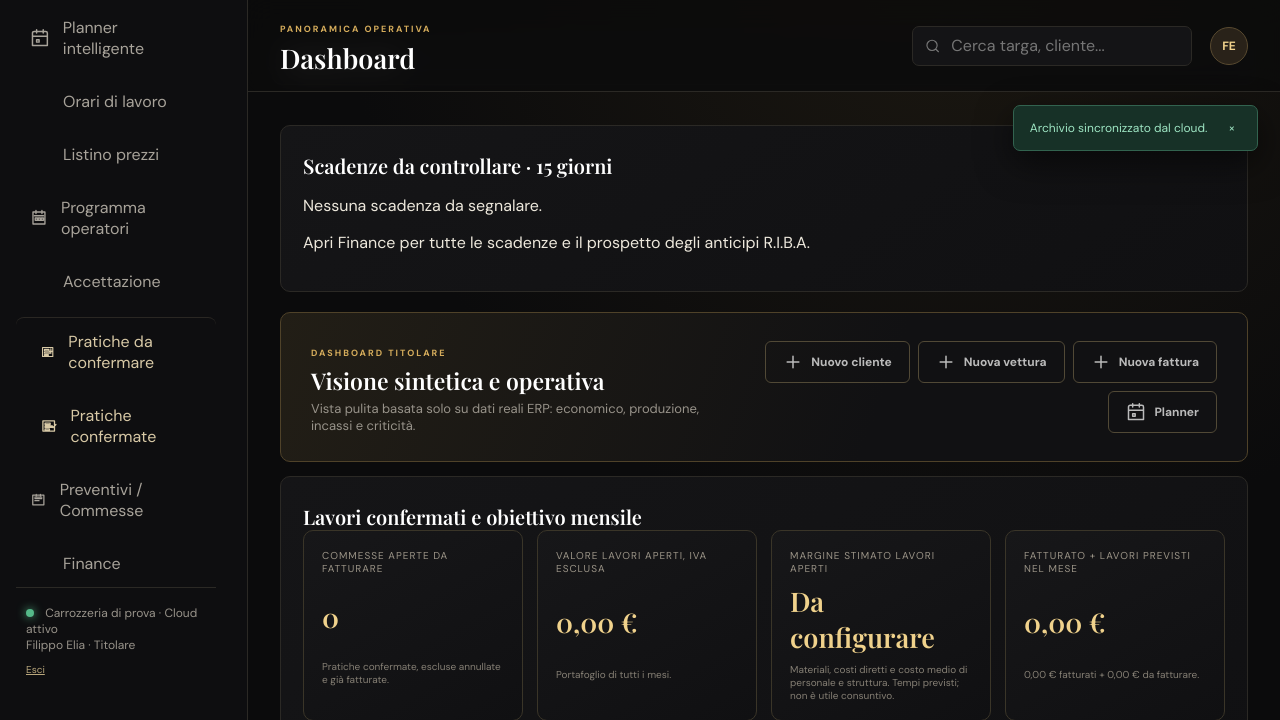
Test: shows fast estimates in the confirmed and pending queues without fabricating intake sheets
The width and height of the screenshot is (1280, 720).
(page scrolled)
Expected: the text "Archivio sincronizzato dal cloud." is shown, [1030, 120, 1207, 136]
Click the button "Pratiche confermate".
click(116, 426)  # box [16, 392, 216, 460]
(page scrolled)
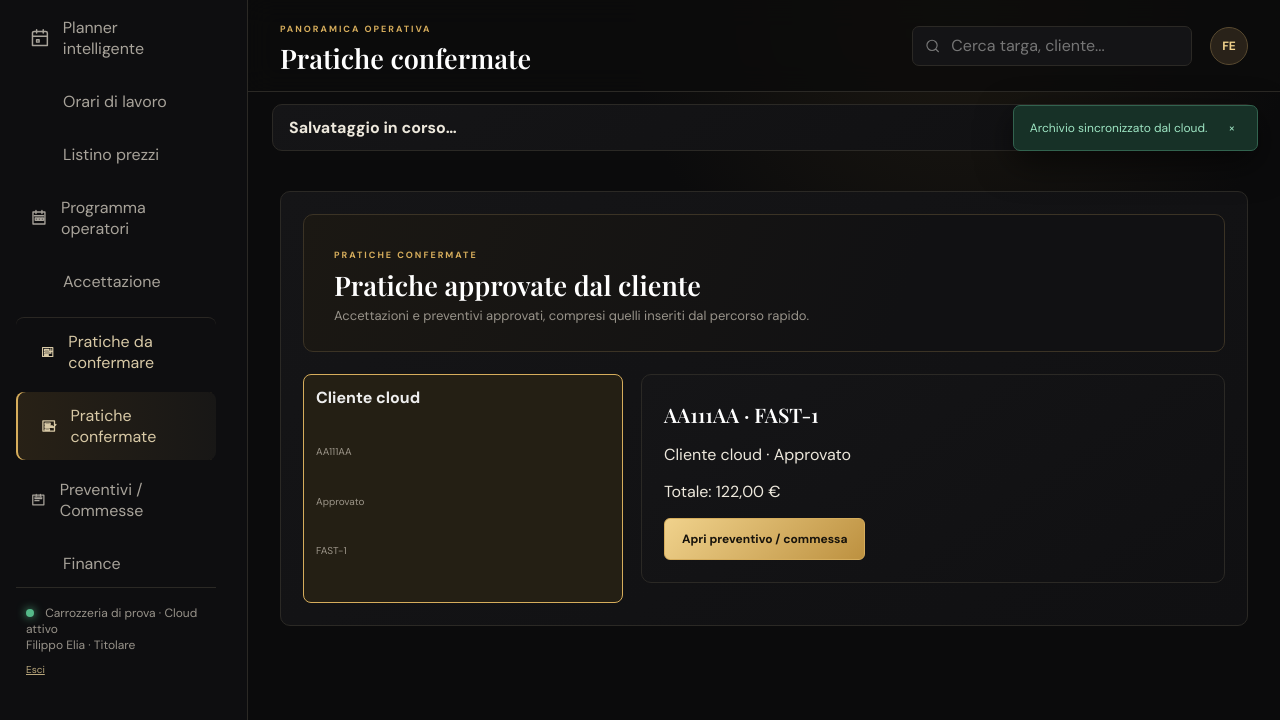
Result: the heading "AA111AA · FAST-1" is shown at [664, 401, 819, 428]
Click the button "Apri preventivo / commessa".
click(765, 539)  # box [664, 518, 866, 560]
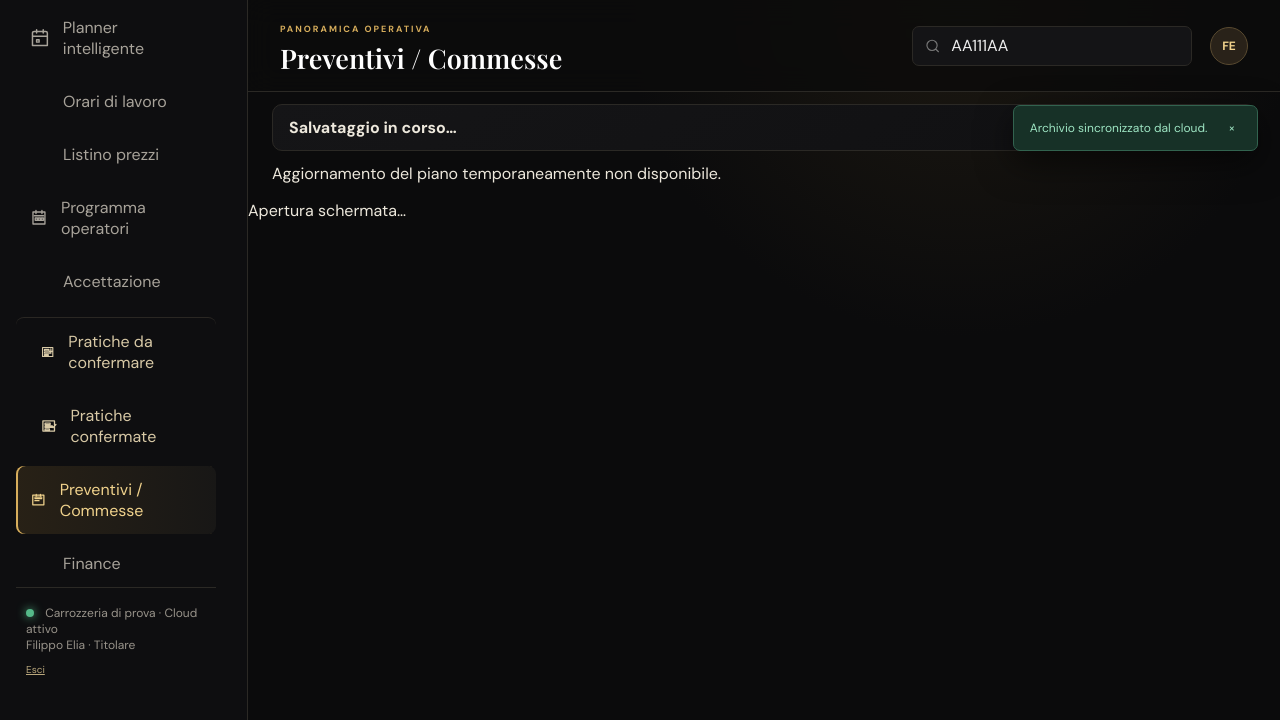
Result: the heading shows "Preventivi" at [280, 40, 562, 76]
Click the button "Pratiche da confermare".
click(116, 352)  # box [16, 317, 216, 386]
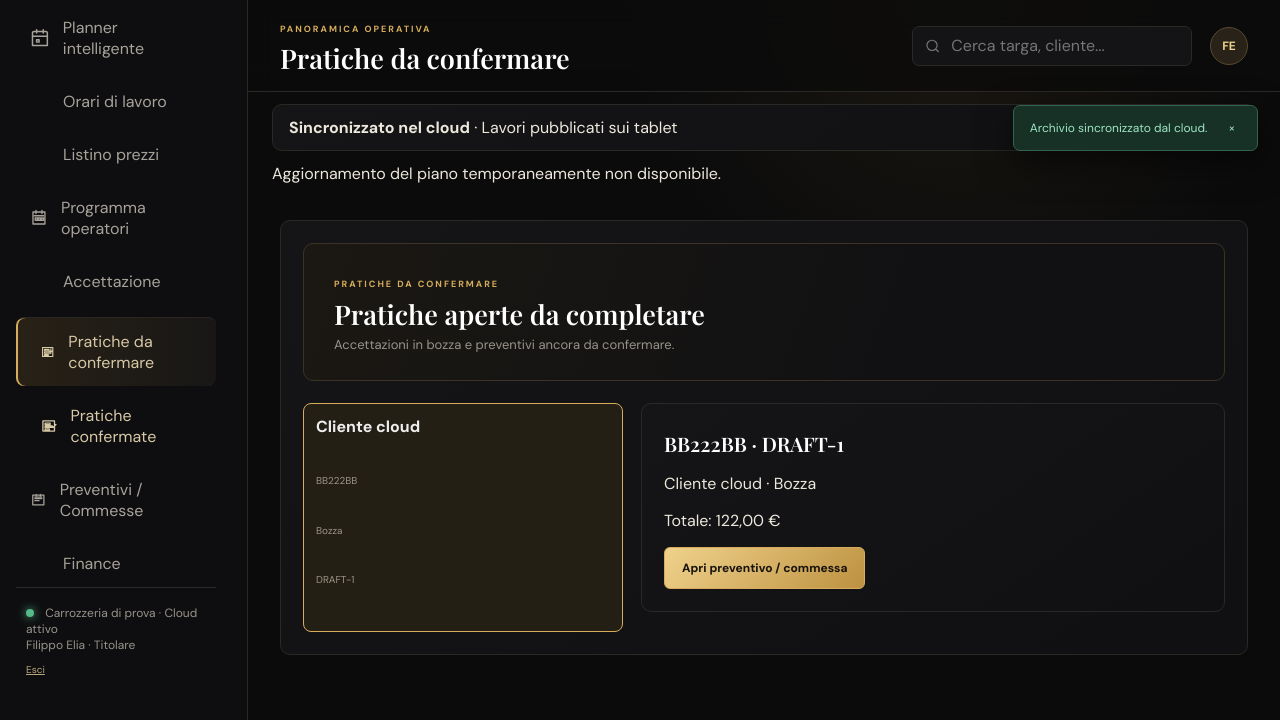
Result: the heading "BB222BB · DRAFT-1" is shown at [664, 430, 844, 457]
